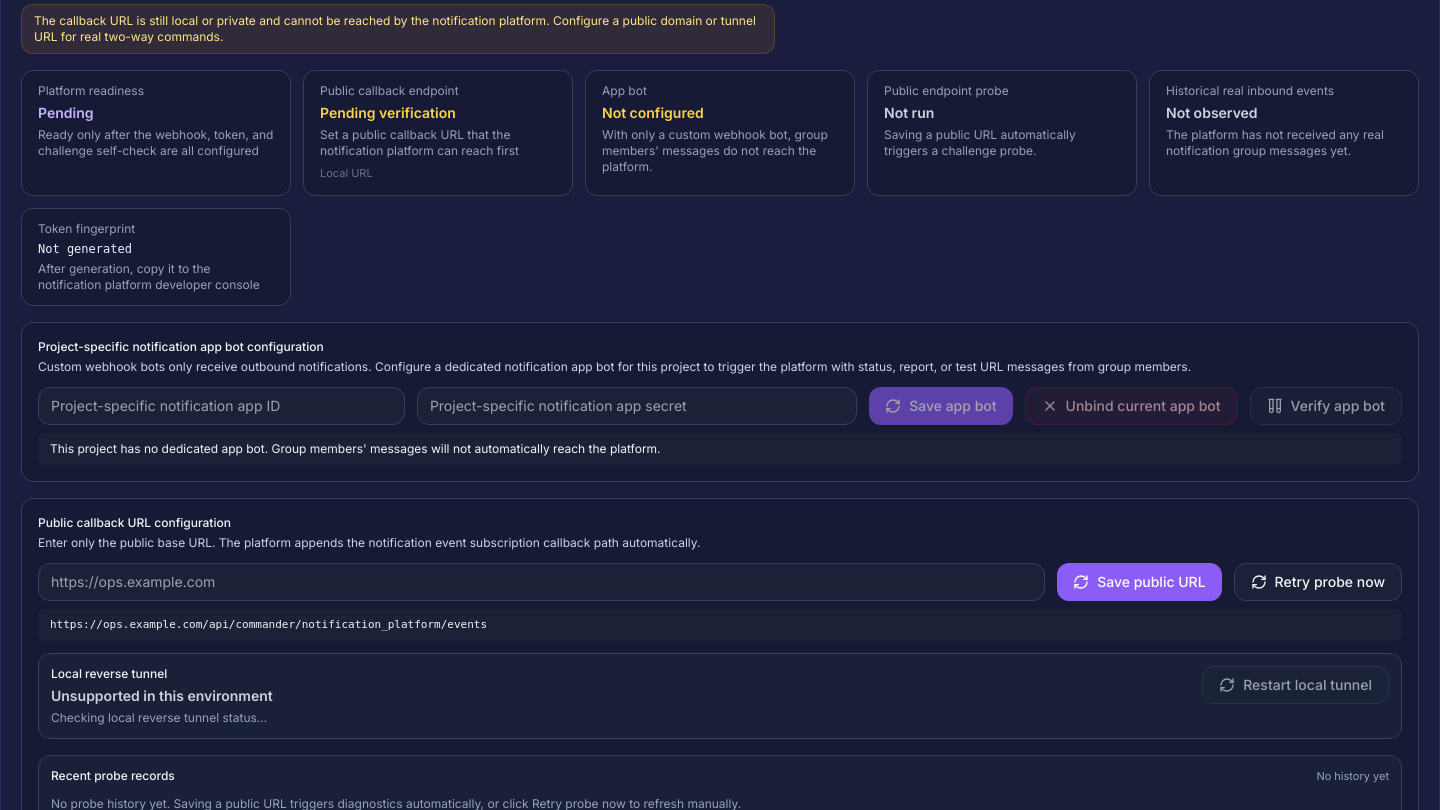
it: NotificationPage › should configure app bot credentials from notification page
The image size is (1440, 810).
(page scrolled)
Expected: the text "Project-specific notification app bot configuration" is shown, [38,339,324,354]
Type "cli_demo_bot" into the field with placeholder "Project-specific notification app ID" at (221, 406), box [38,387,405,425]
(page scrolled)
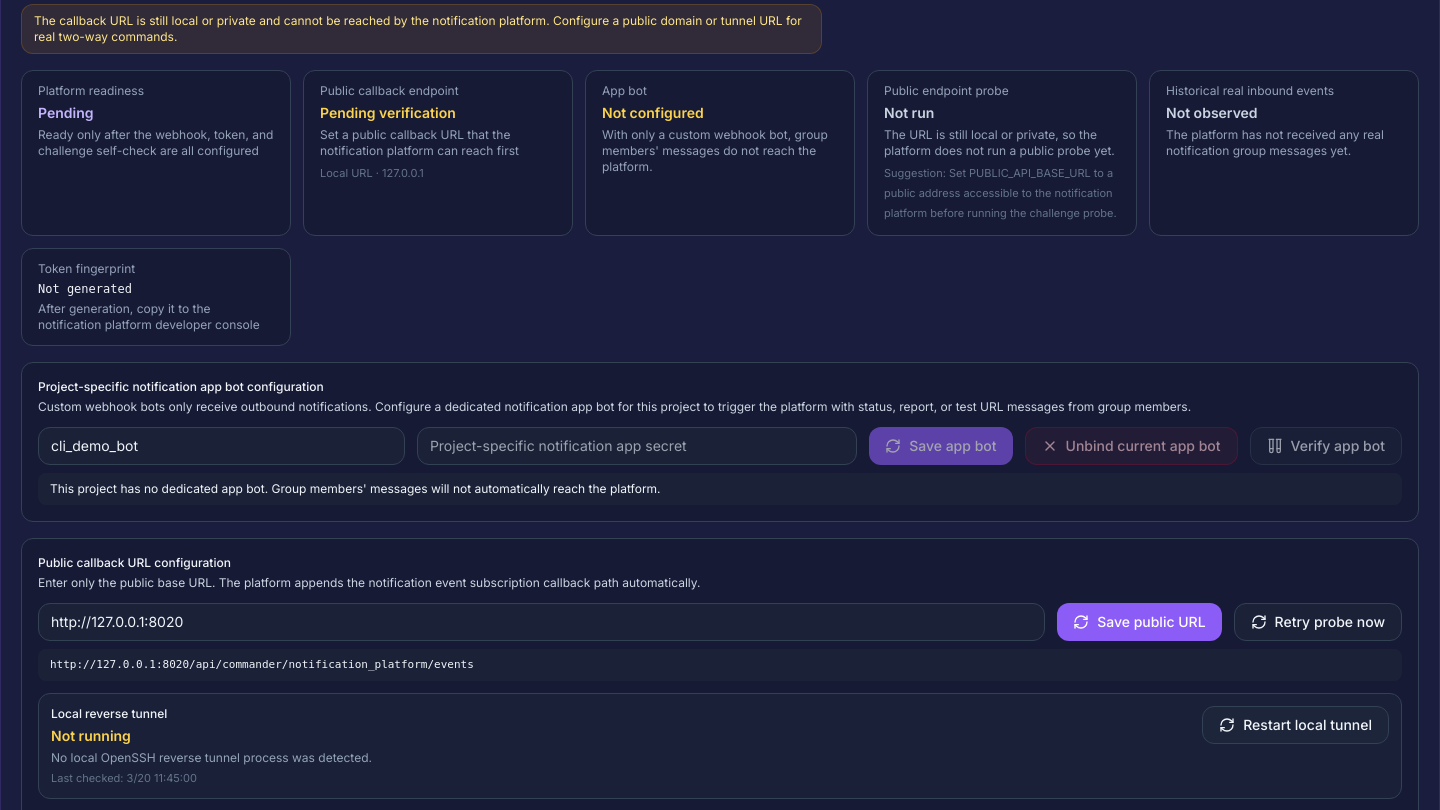
Type "secret-demo" into the password field with placeholder "Project-specific notification app secret" at (637, 446), box [417,427,857,465]
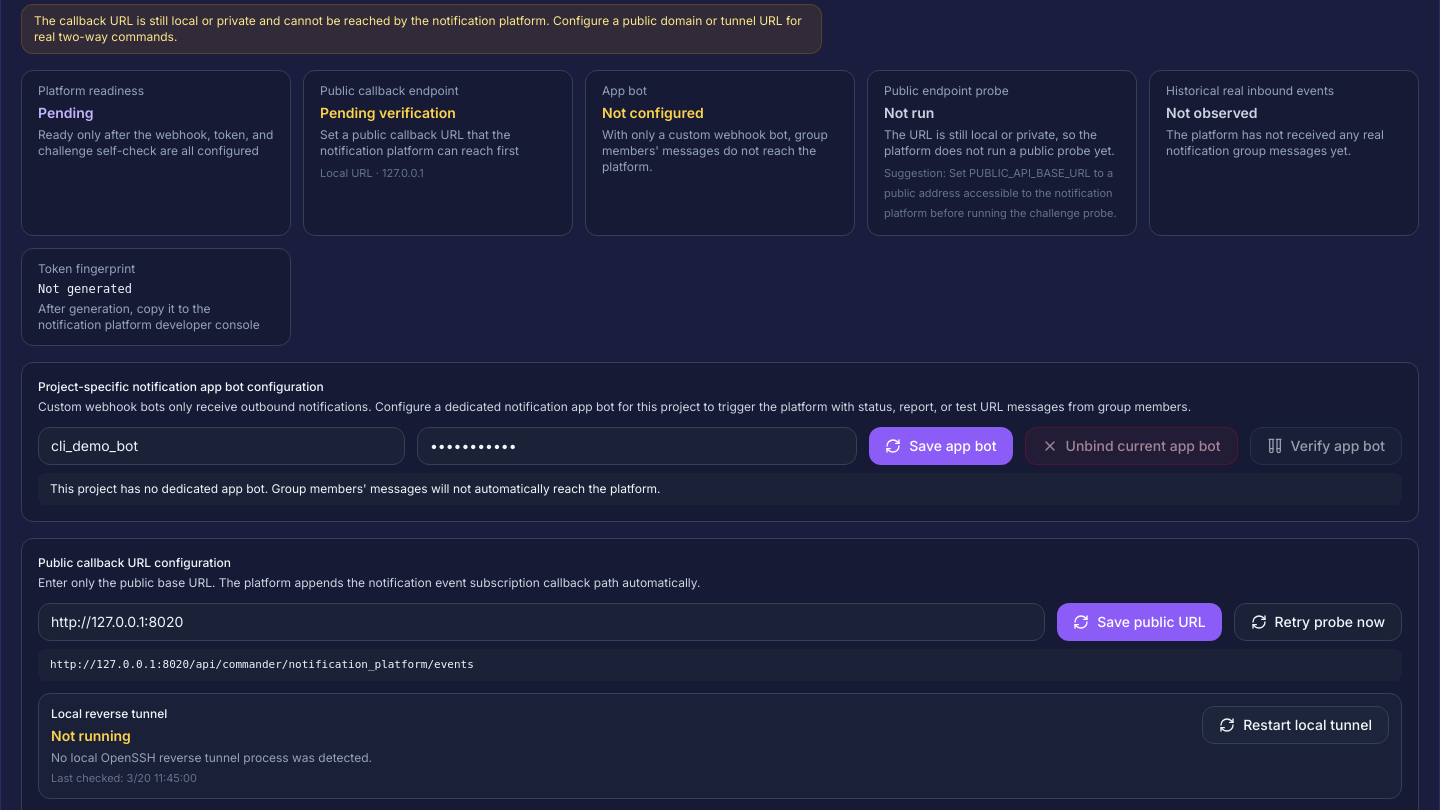
Click the button "Save app bot" at (941, 446), box [869,427,1013,465]
(page scrolled)
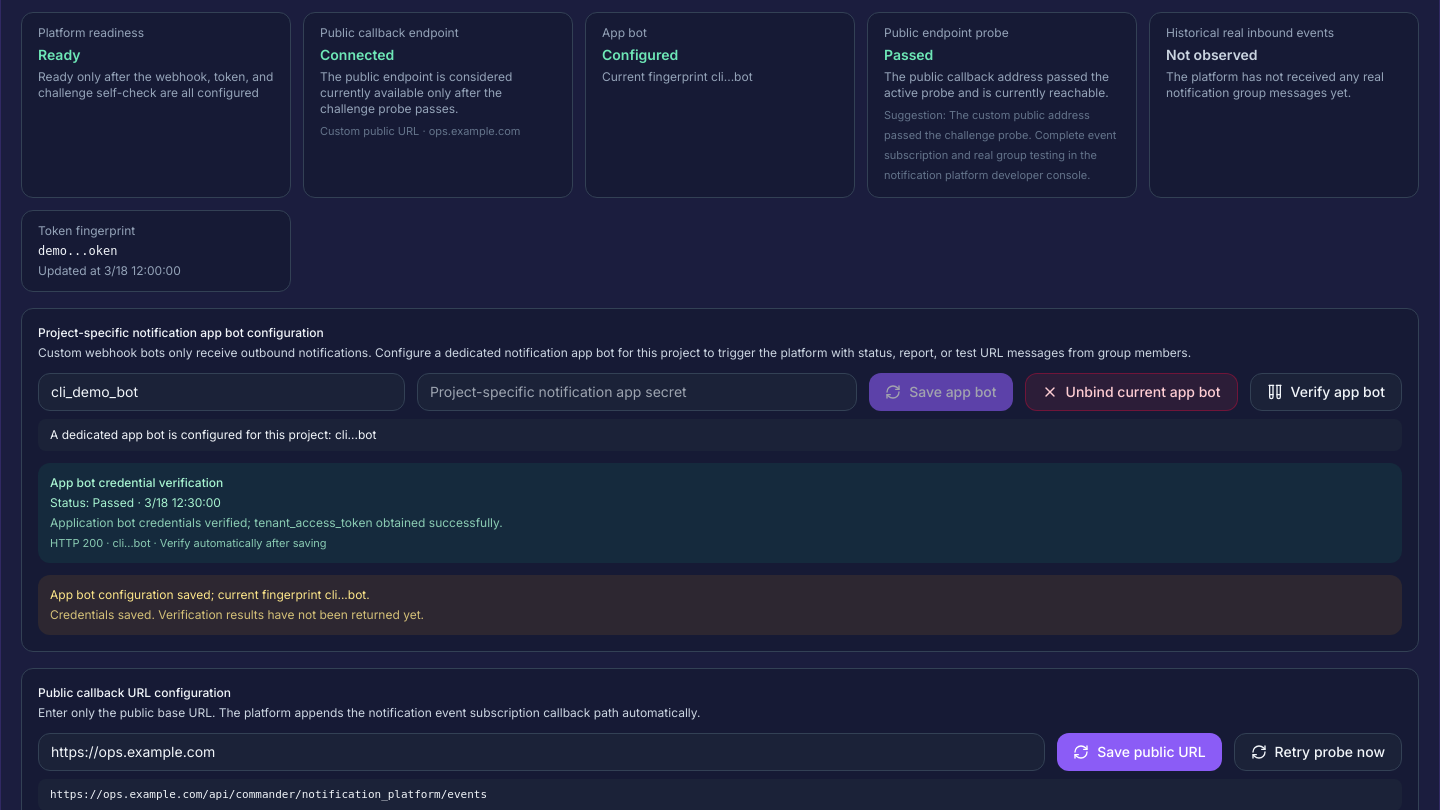
Expected: the text "App bot configuration saved; current fingerprint cli...bot." is shown, [50,587,370,602]
Expected: the text "tenant_access_token" is shown, [50,515,503,530]
